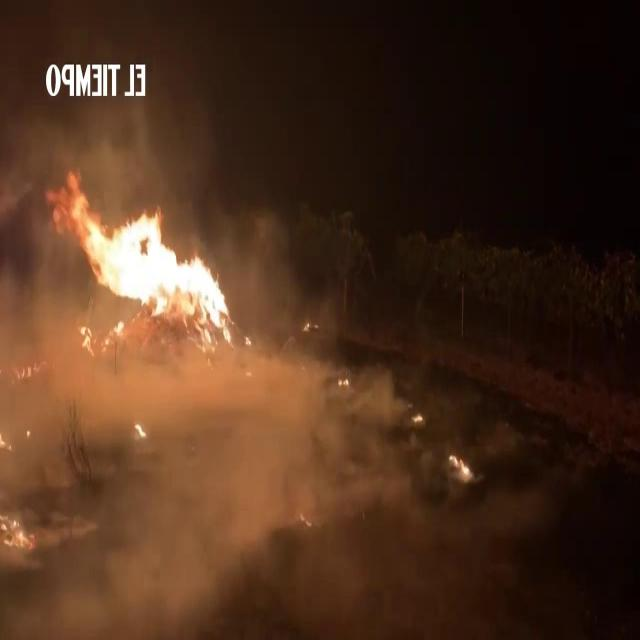fire: (81, 226, 191, 305)
smoke: (0, 350, 347, 576)
